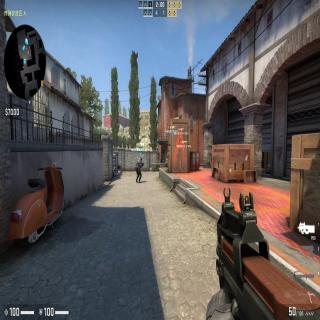CT-Body: (135, 156, 145, 184)
CT-Head: (140, 156, 142, 162)
